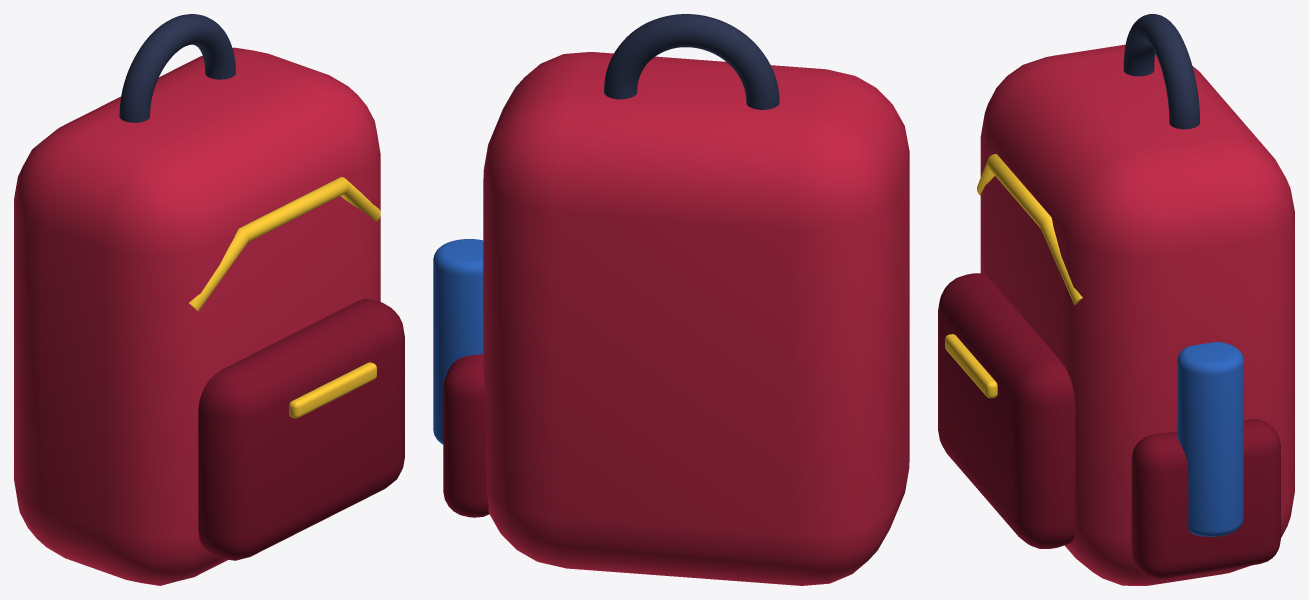
File: onboarding-student.glb
The picture shows the model from 3 angles, left to right: view 1: azimuth 30°, elevation 25°; view 2: azimuth 150°, elevation 25°; view 3: azimuth 270°, elevation 25°; orthographic projection. The views are drawn at different scales.
Parts seen in each view (by area): view 1: Cube, Cube.001, Torus, tube, Cube.002; view 2: Cube, Torus, Cylinder, Cube.003; view 3: Cube, Cube.001, Cube.003, Cylinder, Torus, tube, Cube.002.
Boxes of the visible parts, x1=… form: Cube: x1=14, y1=47, x2=380, y2=585; Cube.001: x1=198, y1=299, x2=404, y2=560; Torus: x1=119, y1=14, x2=235, y2=122; tube: x1=189, y1=177, x2=380, y2=311; Cube.002: x1=289, y1=362, x2=376, y2=418; Cube: x1=483, y1=52, x2=909, y2=585; Torus: x1=604, y1=14, x2=779, y2=109; Cylinder: x1=433, y1=239, x2=483, y2=444; Cube.003: x1=443, y1=354, x2=488, y2=517; Cube: x1=980, y1=44, x2=1294, y2=585; Cube.001: x1=938, y1=273, x2=1075, y2=548; Cube.003: x1=1131, y1=419, x2=1280, y2=579; Cylinder: x1=1177, y1=342, x2=1243, y2=536; Torus: x1=1123, y1=14, x2=1199, y2=129; tube: x1=977, y1=154, x2=1082, y2=304; Cube.002: x1=945, y1=334, x2=997, y2=398.
Size of the model in its own units: 1.69 by 2.18 by 1.39.
